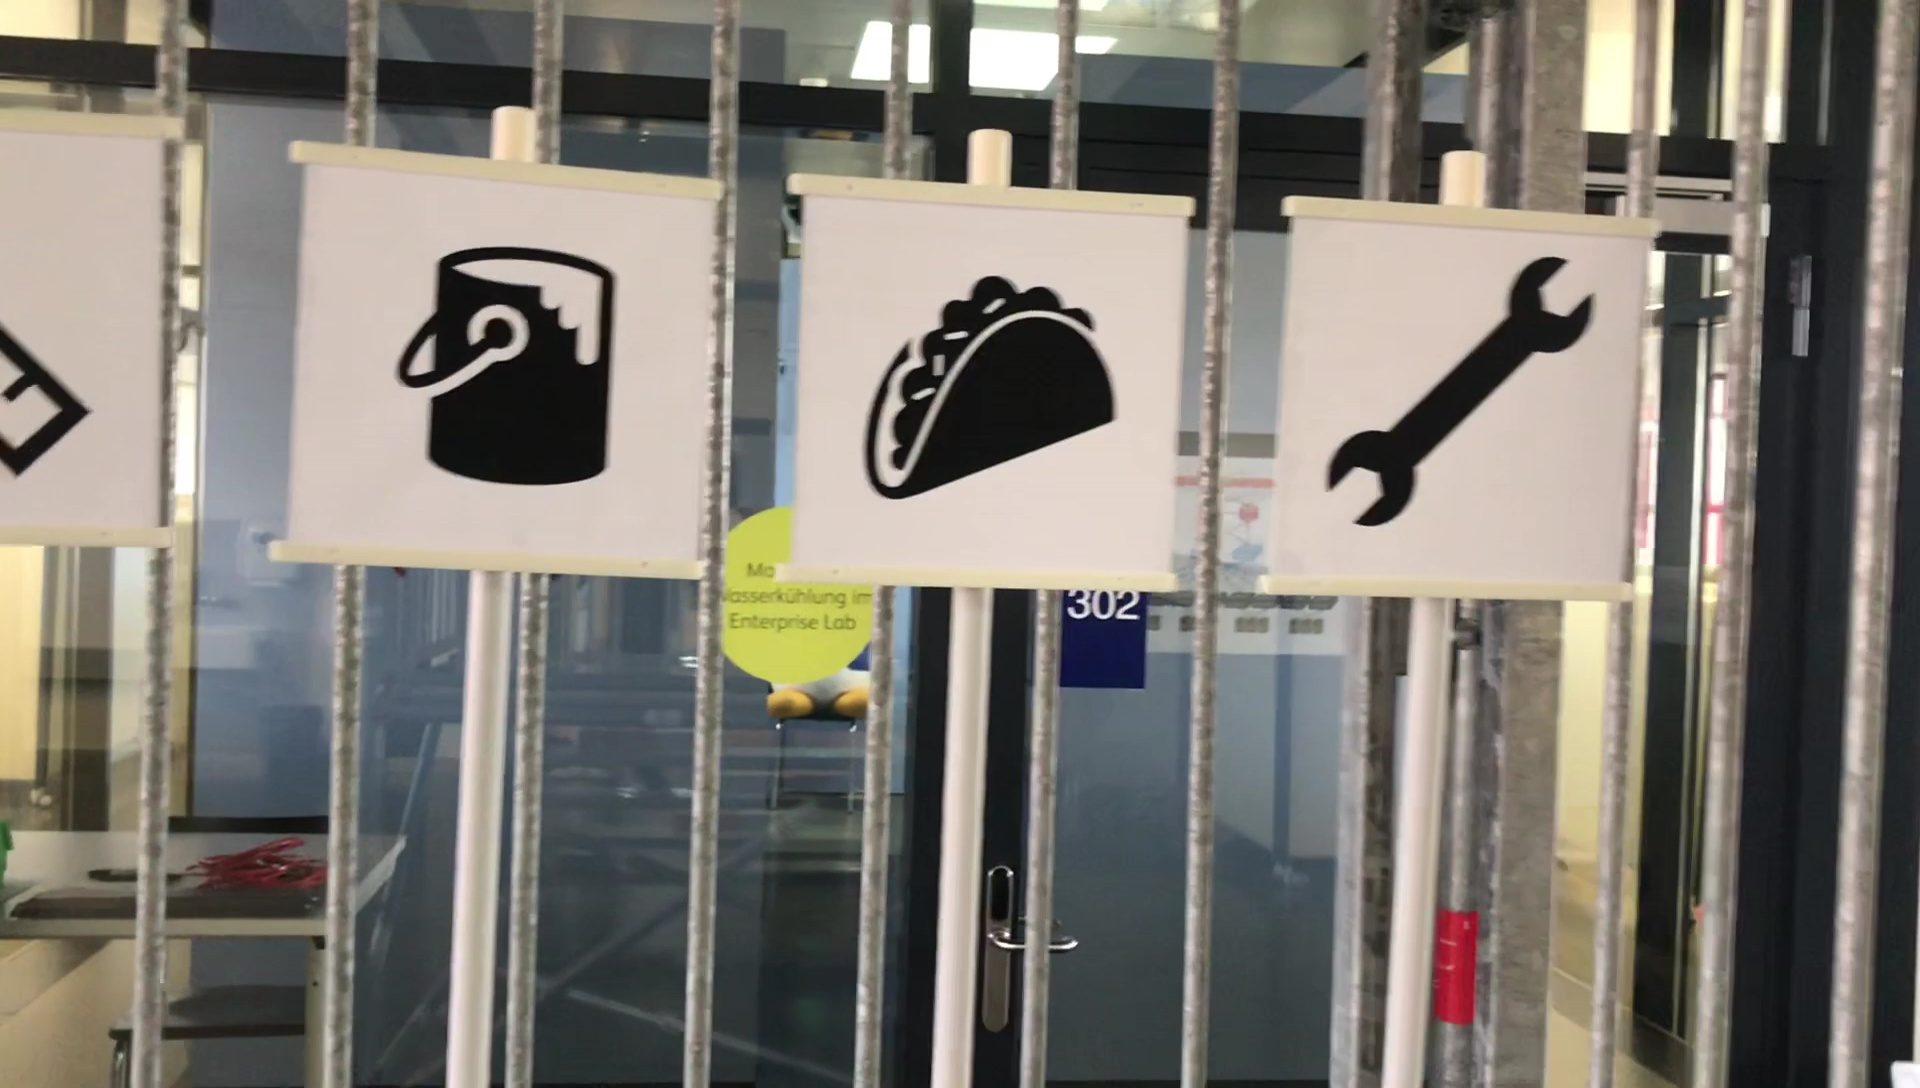bucket: (389, 239, 624, 501)
taco: (873, 261, 1116, 510)
wrench: (1316, 258, 1607, 533)
